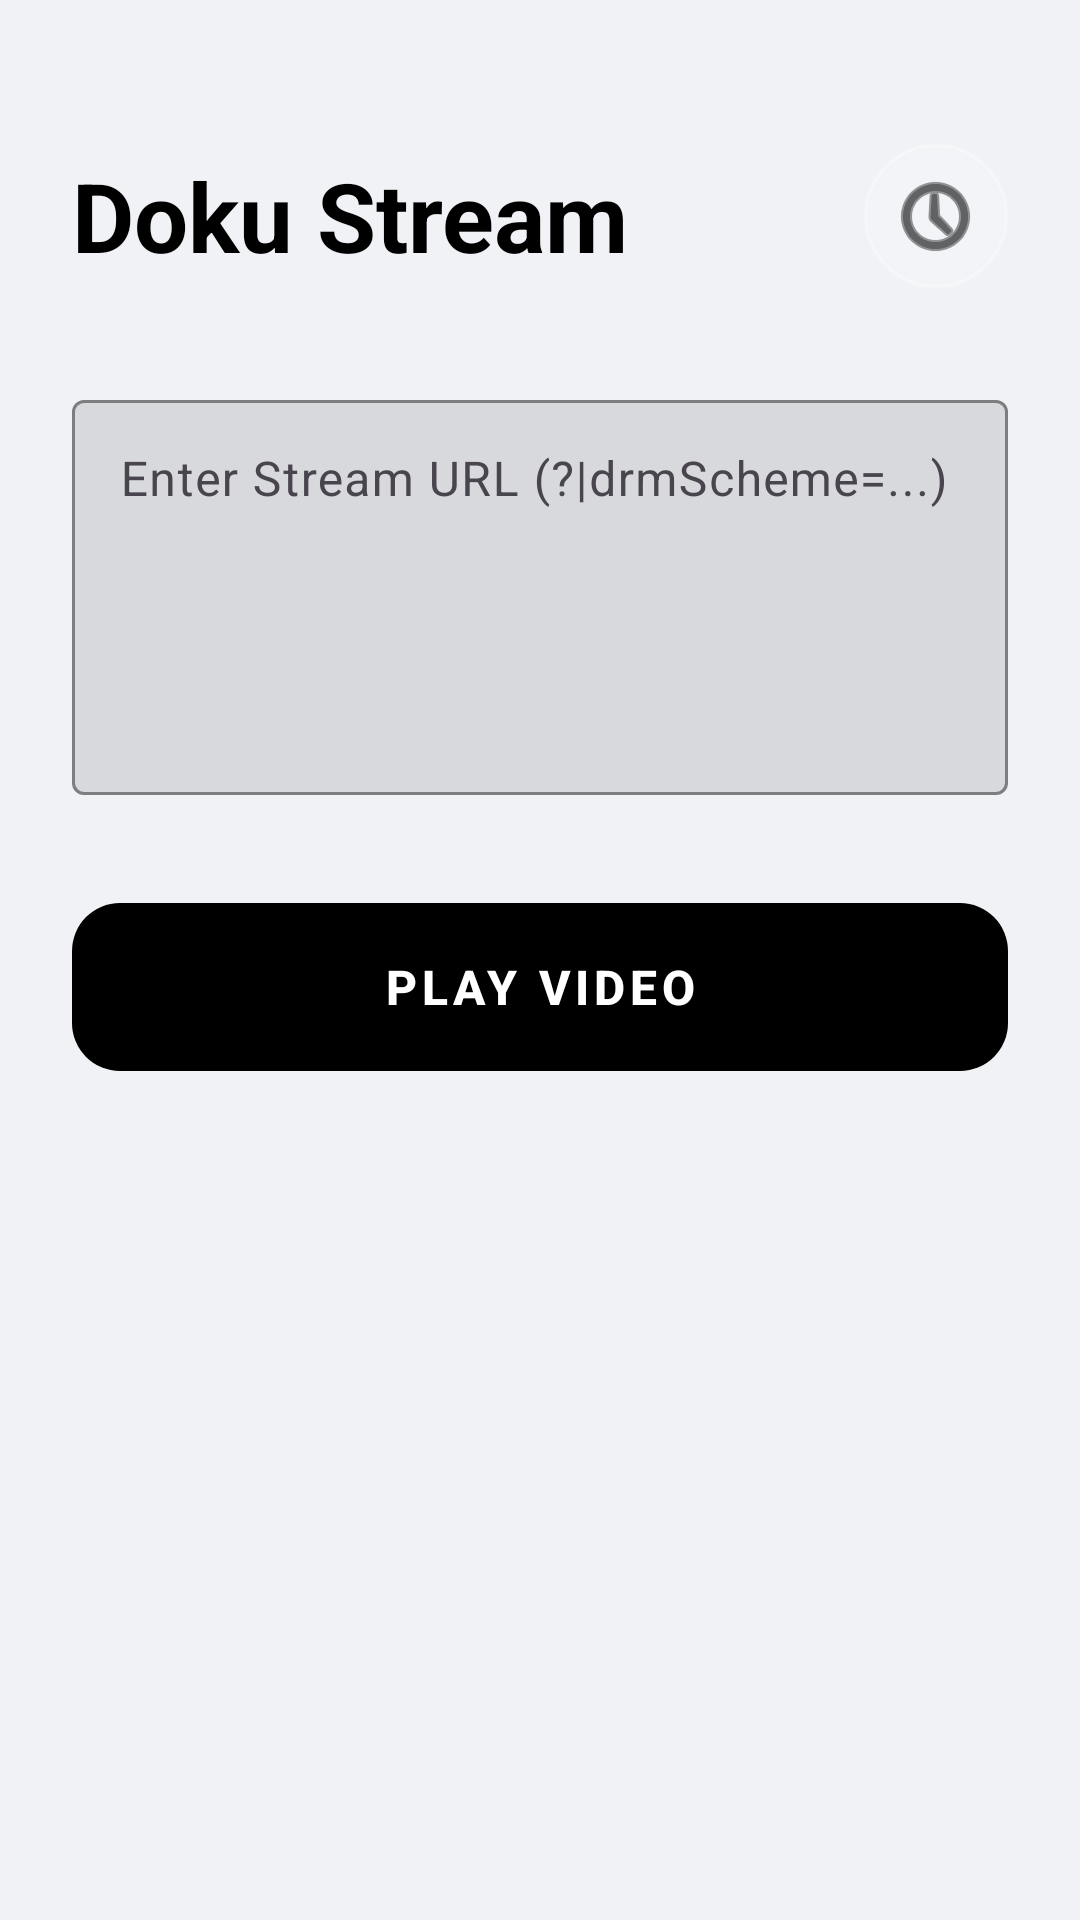

Icon click points for this 1080 x 1920 phone screenshot, format (x,y):
recent history: (935,216)
